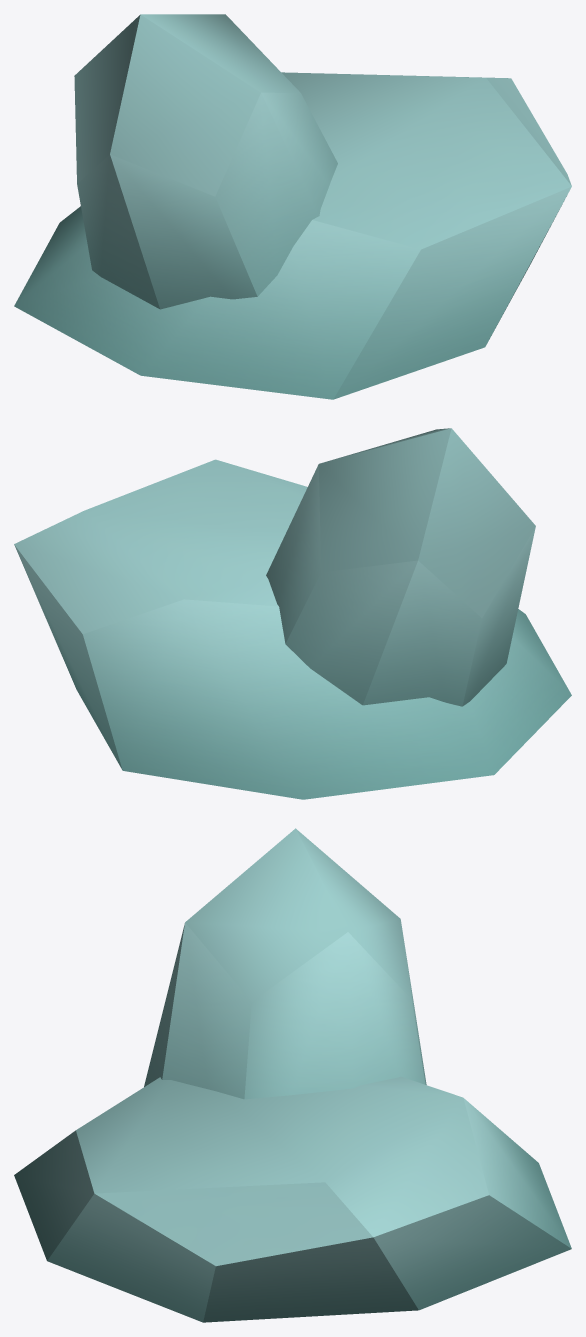
The model's file is Stones_Big.2.fbx.
3 views of the same model, one above another, from view 1: azimuth 30°, elevation 25°; view 2: azimuth 150°, elevation 25°; view 3: azimuth 270°, elevation 25° (orthographic). The views are drawn at different scales.
Parts seen in each view (by area): view 1: Stones_Big_2; view 2: Stones_Big_2; view 3: Stones_Big_2.
Part boxes in pixels (<box>): Stones_Big_2: <box>14,14,571,399</box>; Stones_Big_2: <box>14,428,571,799</box>; Stones_Big_2: <box>14,828,571,1322</box>.
Size of the model in its own units: 61.47 by 35.95 by 57.39.
